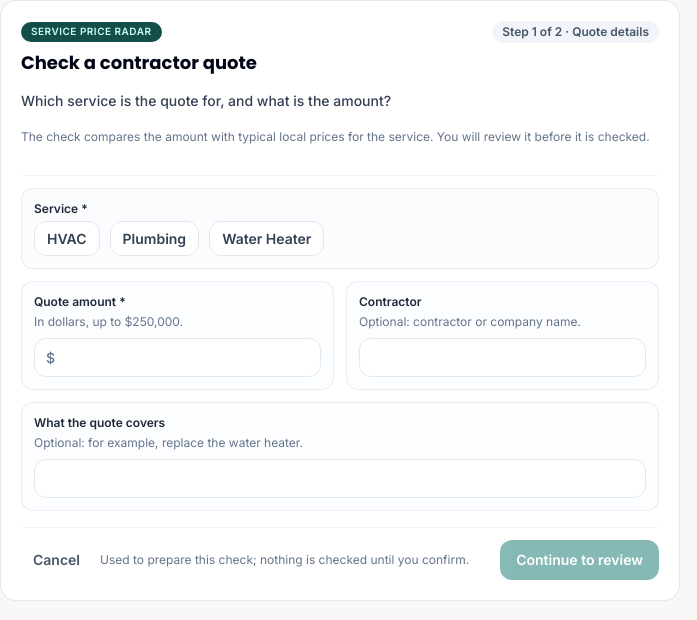
it: Service Price Radar contractor quote compact capture › renders a compact white card with full-width service selector, $ currency prefix, live summary pill, and Cancel button
This screenshot has width=697, height=620.
Expected: the text "Service Price Radar" is shown, [21,22,162,42]
Expected: the text "Step 1 of 2 · Quote details" is shown, [492,21,659,43]
// Selecting a service and entering an amount updates the live header pill and enables Continue to review
Click the button "HVAC" at {"x": 67, "y": 238}, box [34,221,100,256]
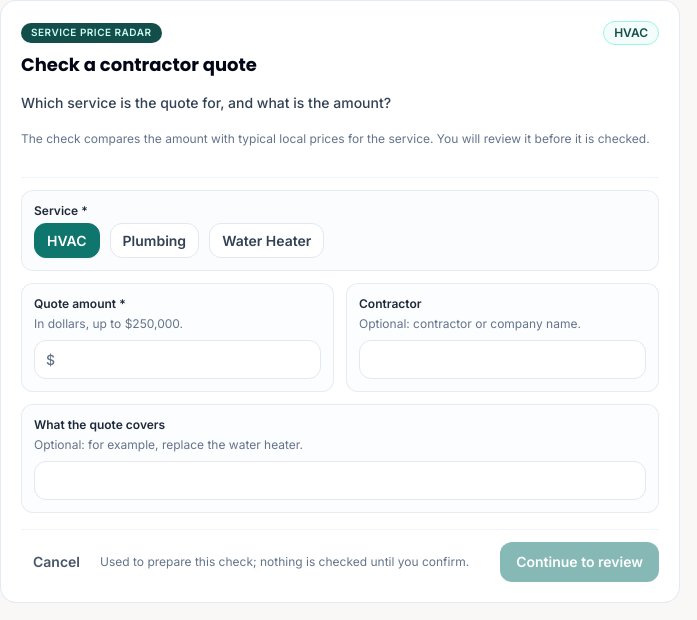
Type "7000" into the number field named "Quote amount" at {"x": 178, "y": 359}, box [34,340,321,379]
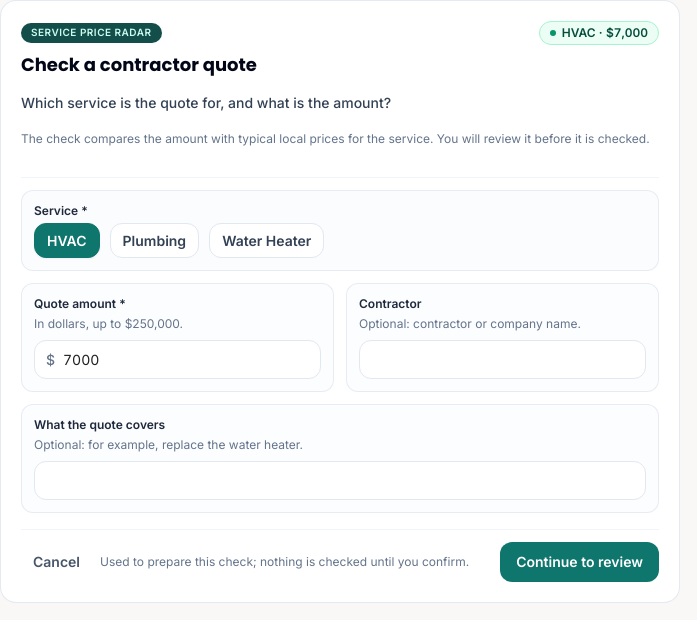
Now the text "HVAC · $7,000" is shown, box [539,21,659,45]
Now the button "Continue to review" is enabled, box [500,542,659,582]
